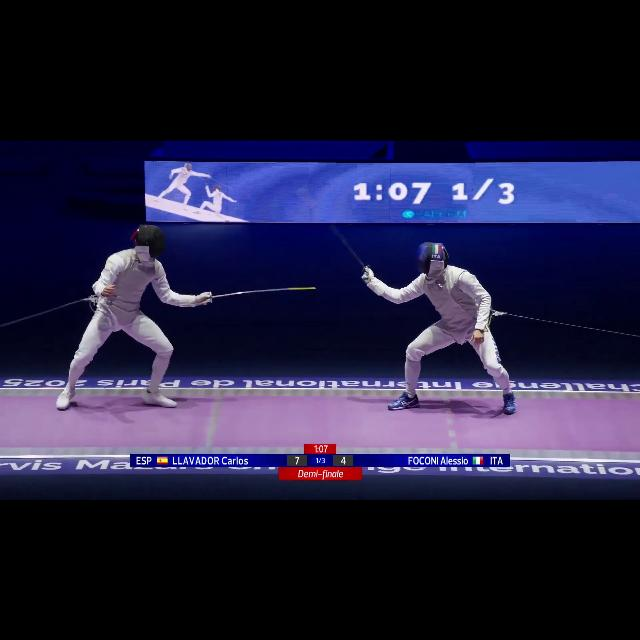blade: (299, 190, 377, 280), (196, 284, 324, 304)
